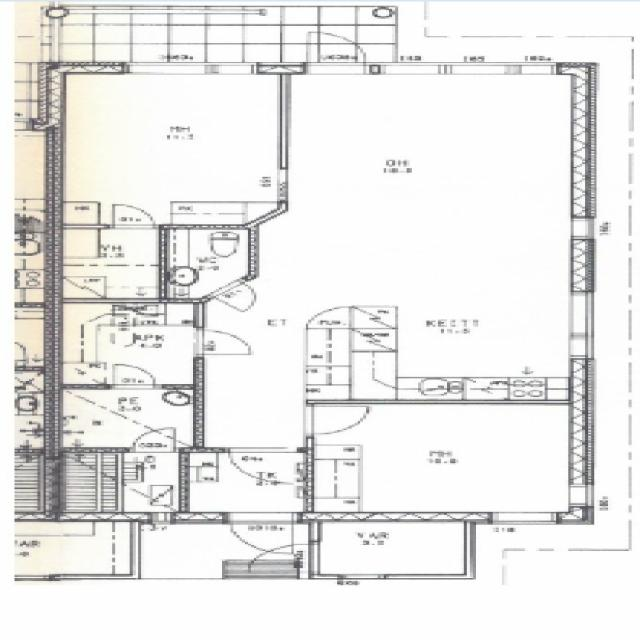door: (230, 514, 292, 556), (230, 448, 296, 486), (308, 34, 365, 75), (208, 280, 270, 312), (252, 546, 319, 574), (305, 407, 369, 435), (194, 331, 252, 355), (133, 428, 174, 453), (114, 365, 154, 390), (114, 206, 153, 230)
